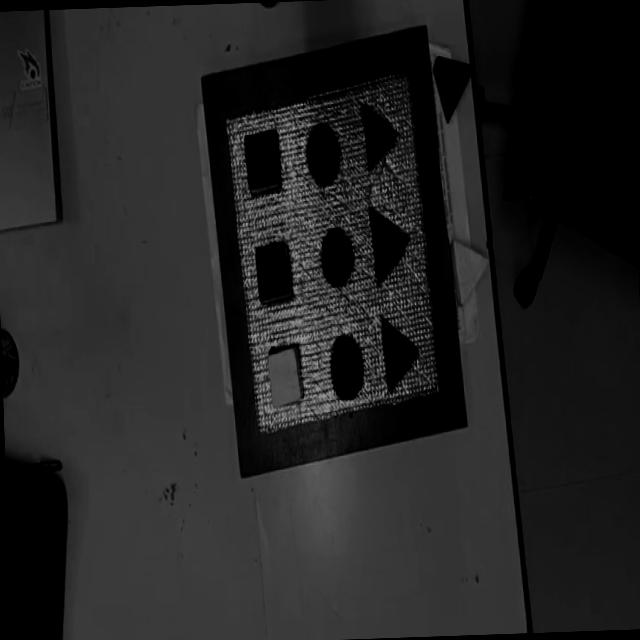bcube: (242, 127, 281, 198)
mtcircle: (304, 121, 342, 188), (328, 332, 364, 402), (318, 225, 354, 288)
mttriangle: (368, 206, 412, 284), (379, 314, 420, 392), (362, 100, 399, 172)
rcube: (254, 239, 294, 306)
rtriangle: (433, 54, 474, 125)
wb: (226, 67, 439, 436)
ycube: (266, 342, 305, 408)
ytriangle: (450, 237, 490, 307)
